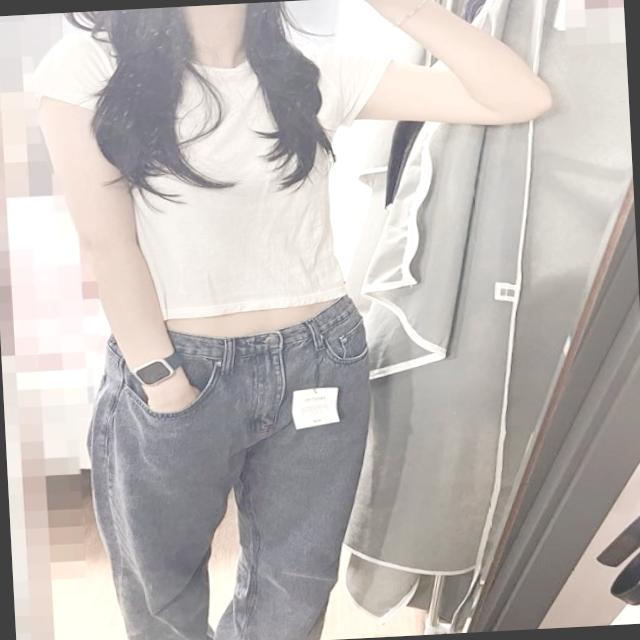denimpants: (84, 298, 392, 640)
shortsleeve: (22, 10, 410, 326)
